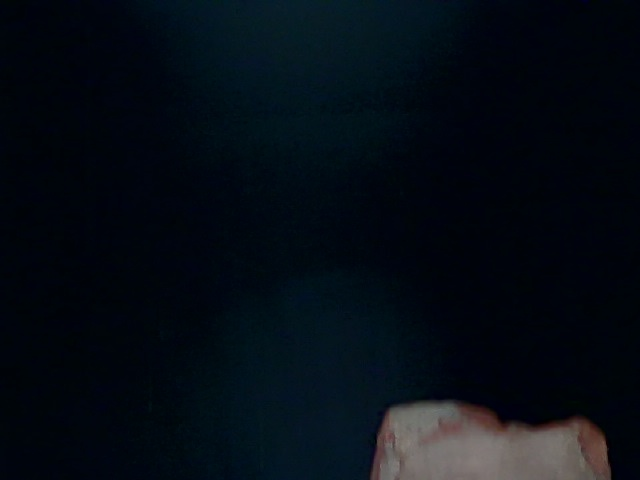KHSLJ: (26, 1, 344, 291)
